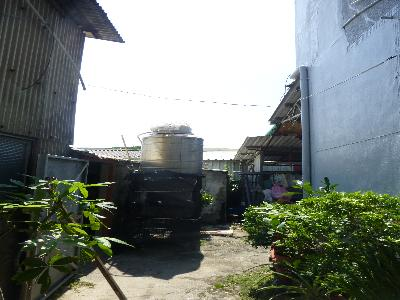water_tower: (141, 123, 203, 178)
